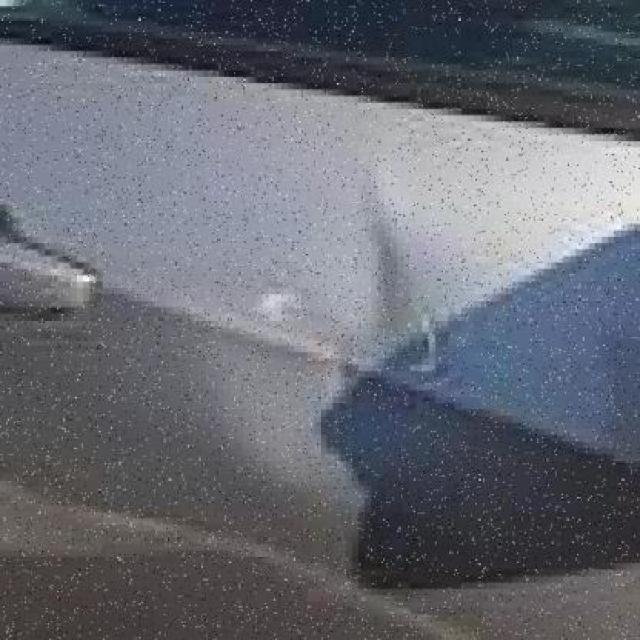doorouter-dent: (0, 91, 634, 615)
